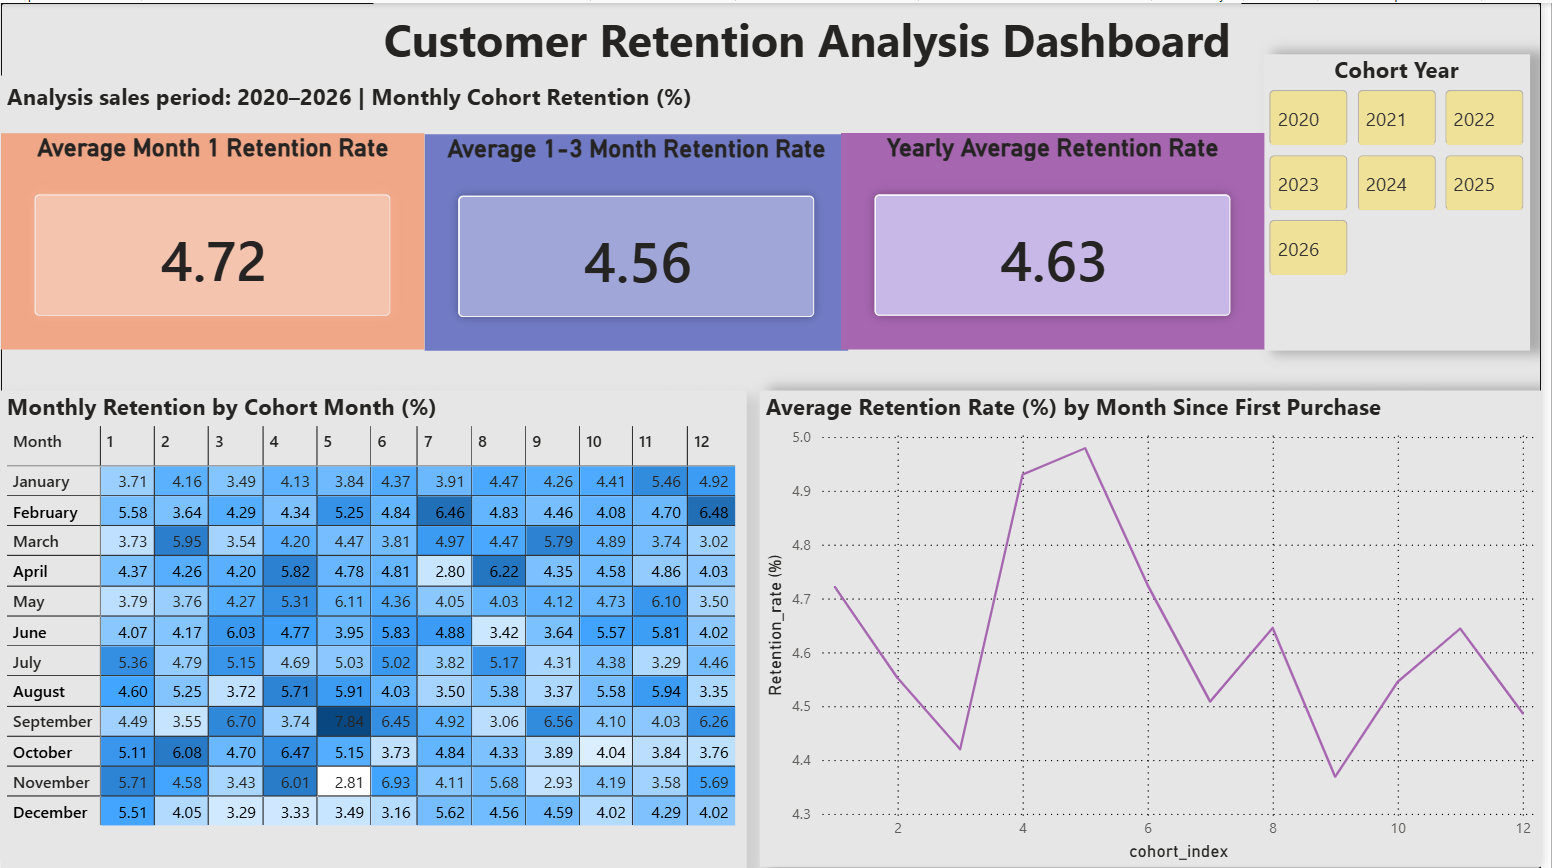

This screenshot's page, from the dashboard's own definition file:
{"tool":"powerbi","page":{"name":"Page 1","canvas":[1280,720],"ordinal":0},"visuals":[{"type":"pivotTable","title":"Monthly Retention by Cohort Month (%)","fields":{"Rows":["cohort_data_202604272105.cohort_month.Variation.Date Hierarchy.Month"],"Columns":["cohort_data_202604272105.cohort_index"],"Values":["Avg(cohort_data_202604272105.retention_rate)"]},"box":[0,322.1,619.8,397.7],"z":0},{"type":"lineChart","title":"Average Retention Rate (%) by Month Since First Purchase","fields":{"Category":["cohort_data_202604272105.cohort_index"],"Y":["Avg(cohort_data_202604272105.retention_rate (%))"]},"box":[630.8,322.2,649.5,396],"z":1000},{"type":"advancedSlicerVisual","title":"Cohort Year","fields":{"Values":["cohort_data_202604272105.cohort_month.Variation.Date Hierarchy.Year"]},"box":[1049.7,42.6,221.4,246.3],"z":2000},{"type":"cardVisual","title":"Average Month 1 Retention Rate","fields":{"Data":["cohort_data_202604272105.Month 1 retention"]},"box":[0.4,108.5,352.3,180.2],"z":3000},{"type":"cardVisual","title":"Average 1-3 Month Retention Rate","fields":{"Data":["cohort_data_202604272105.Average 1-3 Month Retention"]},"box":[352.8,109.6,352,180.2],"z":4000},{"type":"cardVisual","title":"Yearly Average Retention Rate","fields":{"Data":["cohort_data_202604272105.Yearly Average Retention Rate"]},"box":[698.1,108.5,352,180.2],"z":5000},{"type":"textbox","box":[309.7,0,721.3,60.3],"z":6000},{"type":"textbox","box":[0,60.5,588.4,47.7],"z":7000}]}

Visuals, with their boxes in screenshot pixels (x1, y1, x2, y2), scaled from the page's 1280x720 canvas onto the 1552x868 screenshot:
"Monthly Retention by Cohort Month (%)" pivotTable: crop(0, 388, 752, 867)
"Average Retention Rate (%) by Month Since First Purchase" lineChart: crop(765, 388, 1551, 866)
"Cohort Year" advancedSlicerVisual: crop(1273, 51, 1541, 348)
"Average Month 1 Retention Rate" cardVisual: crop(0, 131, 428, 348)
"Average 1-3 Month Retention Rate" cardVisual: crop(428, 132, 855, 349)
"Yearly Average Retention Rate" cardVisual: crop(846, 131, 1273, 348)
textbox: crop(376, 0, 1250, 73)
textbox: crop(0, 73, 713, 130)
